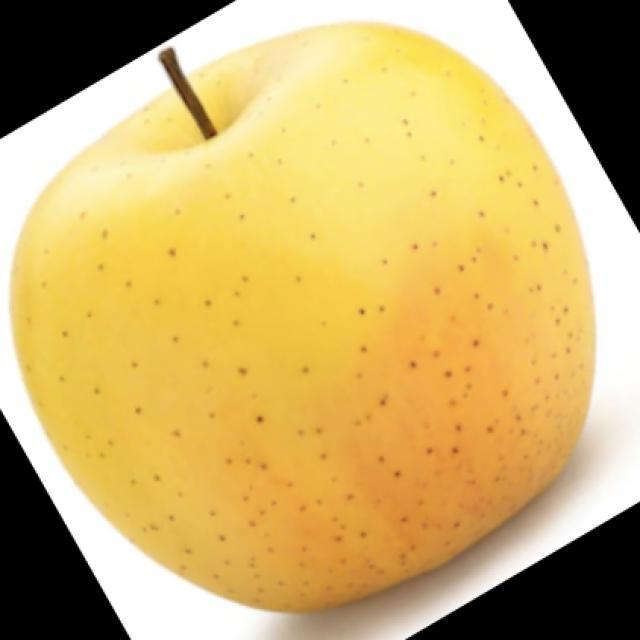Fresh Apple: (30, 33, 598, 607)
